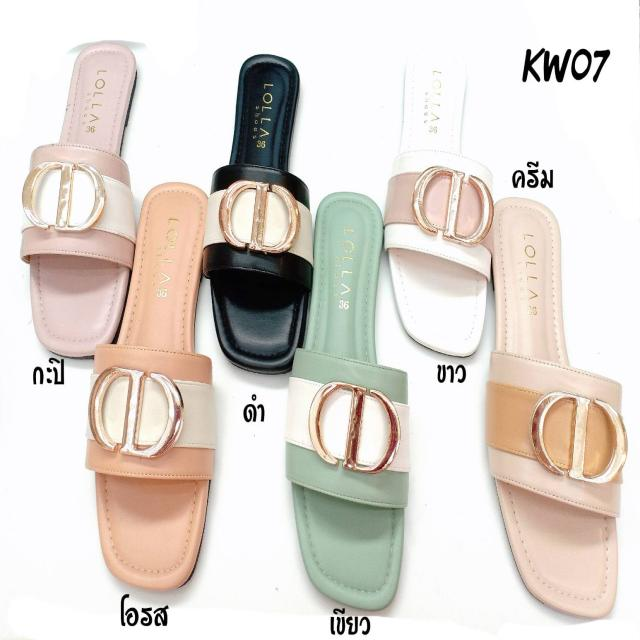black: (207, 55, 313, 372)
cream: (488, 197, 628, 613)
green: (287, 191, 421, 604)
kapi: (29, 38, 143, 361)
orot: (97, 183, 230, 592)
white: (385, 38, 486, 358)
